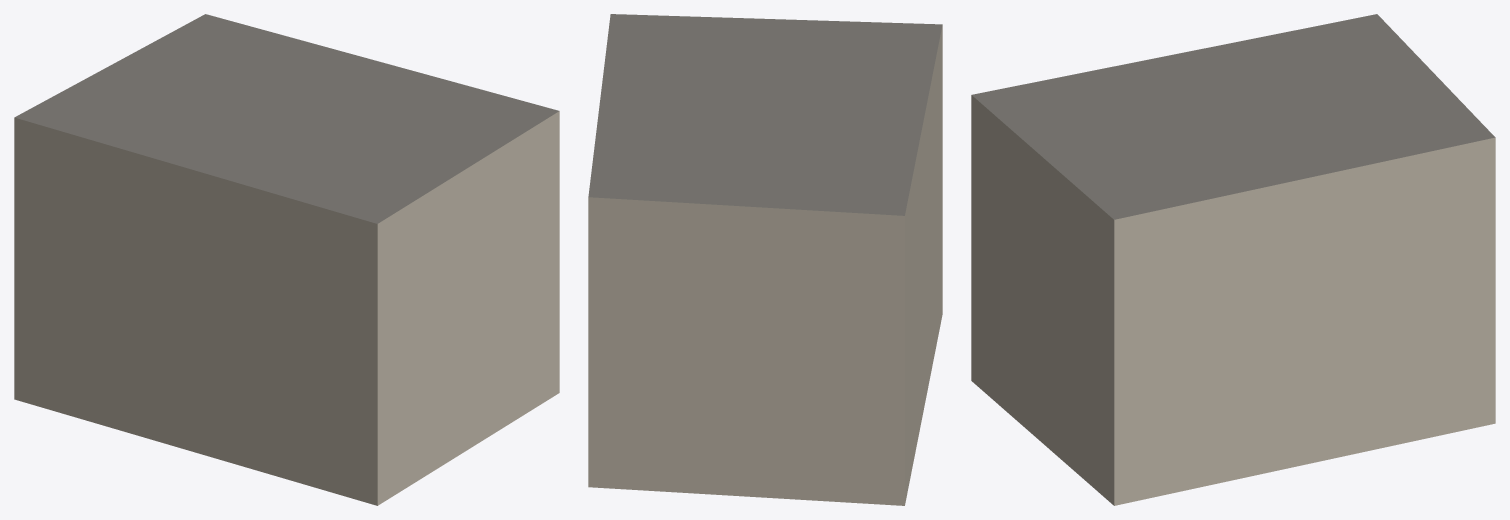
3 views of the same model, side by side, from view 1: azimuth 30°, elevation 25°; view 2: azimuth 150°, elevation 25°; view 3: azimuth 270°, elevation 25° (orthographic). The views are drawn at different scales.
Parts seen in each view (by area): view 1: HP-w505633445; view 2: HP-w505633445; view 3: HP-w505633445.
Part boxes in pixels (x1=…): HP-w505633445: x1=14, y1=14, x2=559, y2=505; HP-w505633445: x1=588, y1=14, x2=942, y2=505; HP-w505633445: x1=971, y1=14, x2=1495, y2=505.
Size of the model in its own units: 27.78 by 18 by 29.88.
